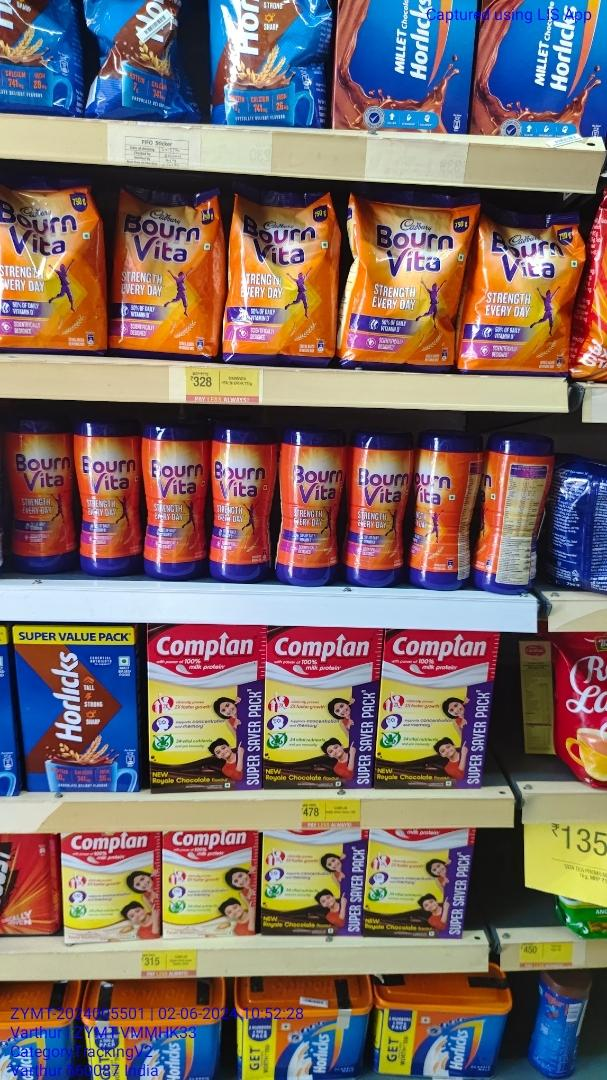HORLICK_MALT_1_KG_CONTAINER: (81, 984, 224, 1080), (370, 985, 511, 1080), (232, 992, 366, 1080)
